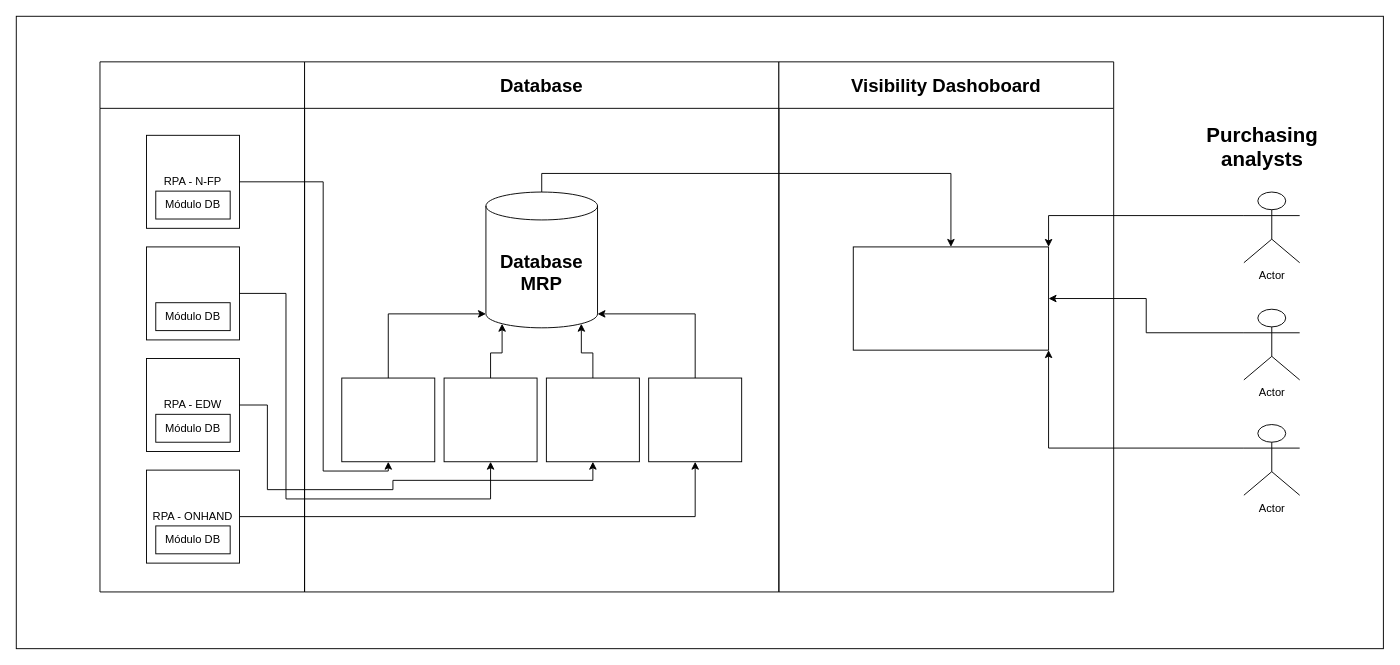
Image size: 1400x665. Some labels were removed from this diagram. Each missing label, with the box of its shape:
Dashboard: (852, 246, 1049, 350)
Extract, Transform, Load: (99, 61, 305, 592)
RPA - BOM: (146, 246, 239, 340)
table_bom PK uniqueId FK1 foreignKey fieldname: (443, 377, 537, 462)
table_edw PK uniqueId FK1 foreignKey fieldname: (545, 377, 639, 462)
table_nfp PK uniqueId FK1 foreignKey fieldname: (341, 377, 435, 462)
table_onhand PK uniqueId FK1 foreignKey fieldname: (648, 377, 742, 462)
